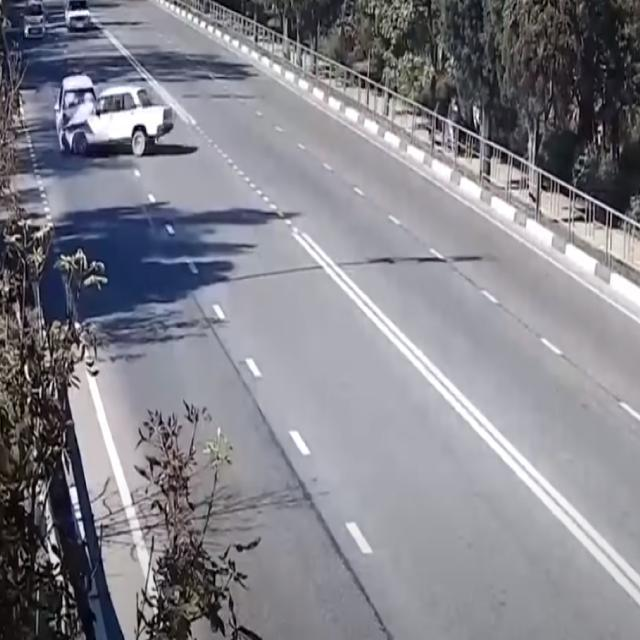accident: (55, 72, 175, 158)
